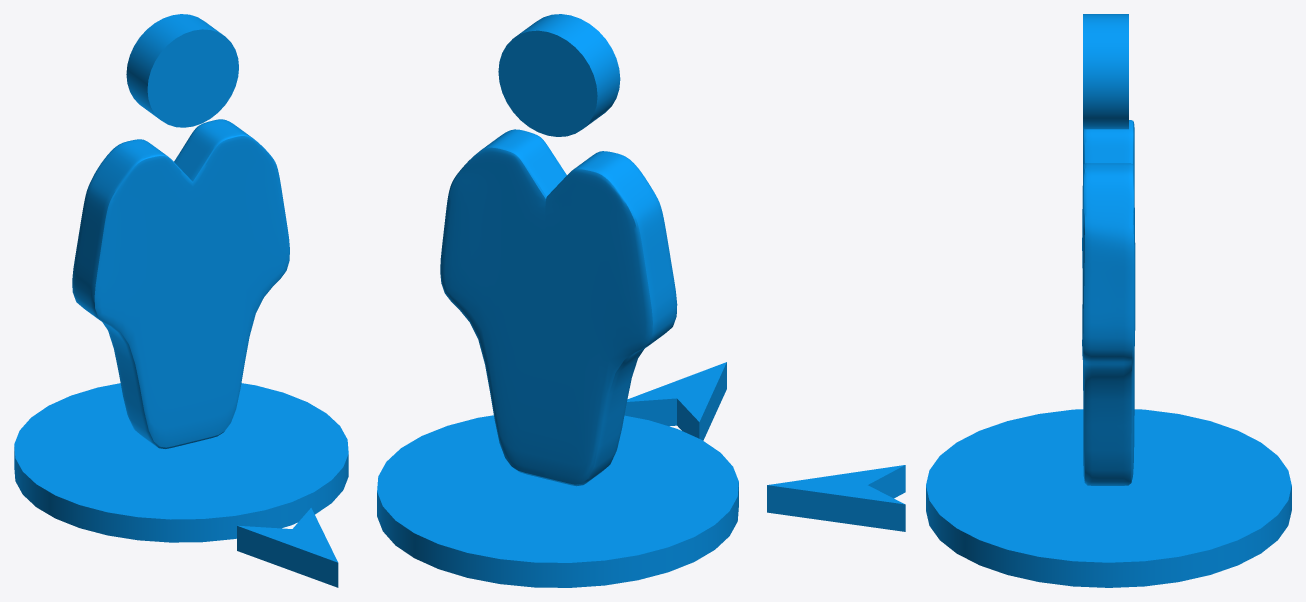
The model's file is controller.glb.
The picture shows the model from 3 angles, left to right: view 1: azimuth 30°, elevation 25°; view 2: azimuth 150°, elevation 25°; view 3: azimuth 270°, elevation 25°; orthographic projection. The views are drawn at different scales.
Parts seen in each view (by area): view 1: Cube; view 2: Cube; view 3: Cube.
Boxes of the visible parts, <box> form: Cube: <box>14,14,348,587</box>; Cube: <box>377,14,738,587</box>; Cube: <box>767,14,1291,587</box>.
Bounding box in the file's own units: 0.2052 × 0.305 × 0.2942.
